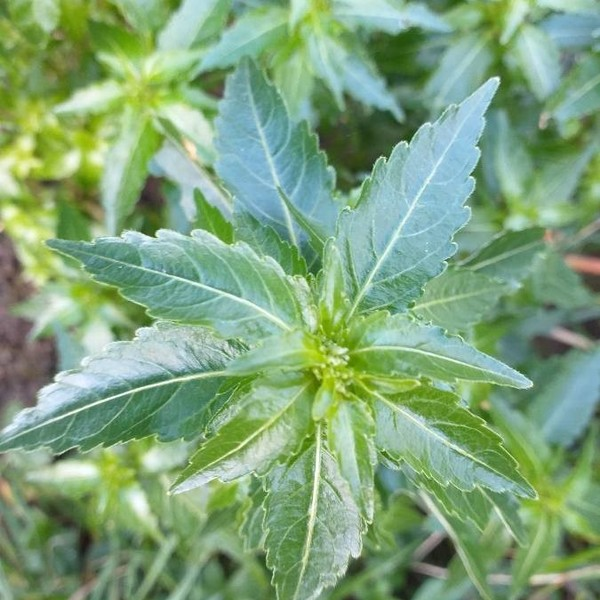obstacle: (38, 50, 550, 560)
